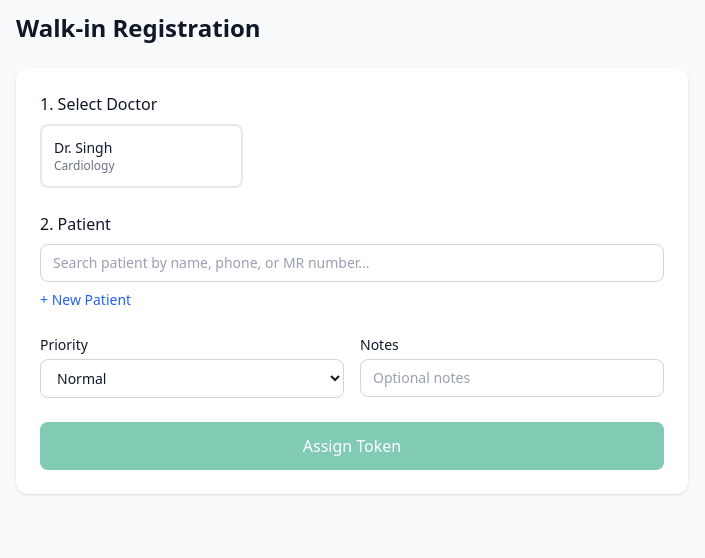
WalkInPage › happy path — uses server-provided mrNumber over the search-result fallback
Click the radio button labelled "Dr. Singh Cardiology" at (141, 156), box [40,124,243,188]
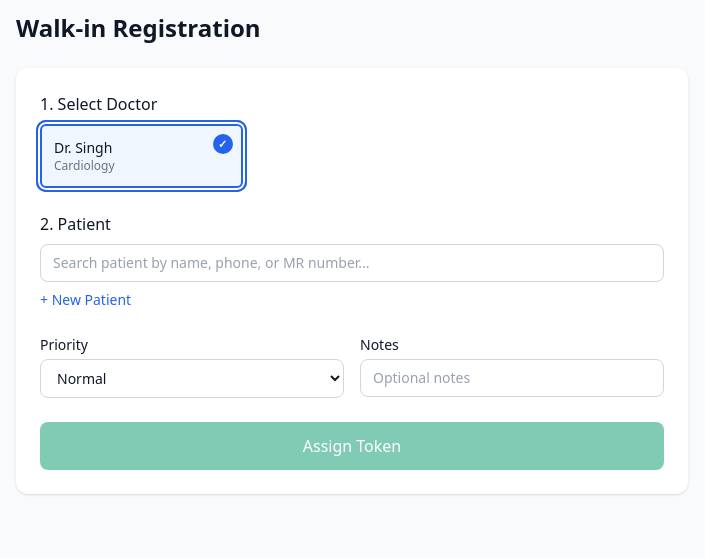
Type "Aa" into the field with placeholder "Search patient by name, phone, or MR number..." at (352, 263), box [40,244,664,282]
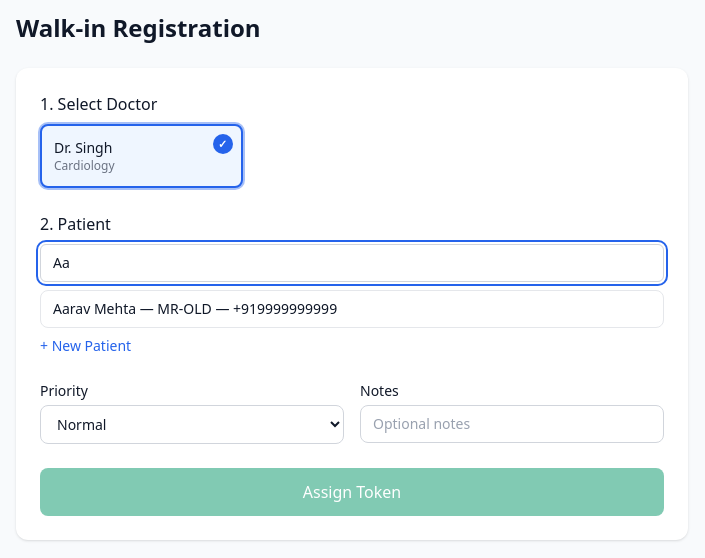
Press the mouse on the button "Aarav Mehta — MR-OLD — +919999999999" at (95, 308), box [41,291,663,327]
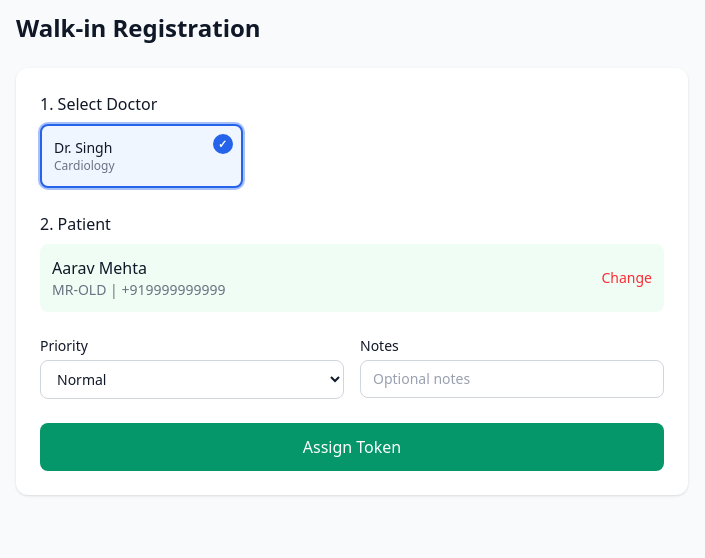
Result: the text "Aarav Mehta" is shown at [52,257,147,279]
Click the button "Assign Token" at (352, 447), box [40,423,664,471]
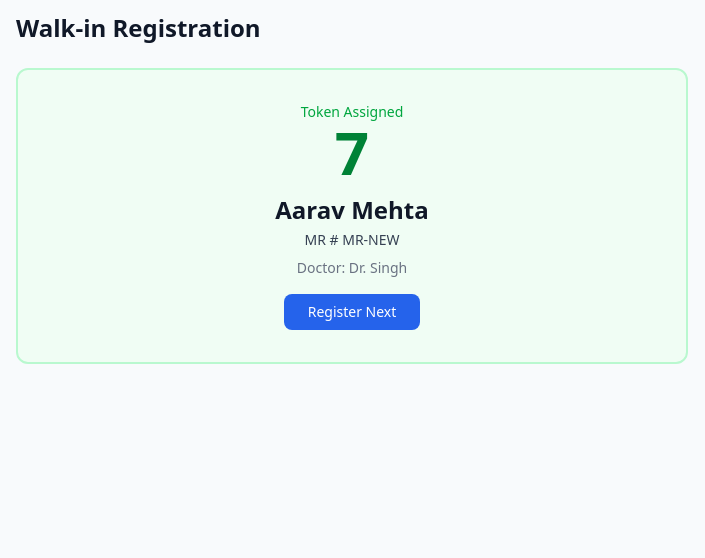
Result: the text with test id "walkin-mr-number" shows "MR-NEW" at [342,230,400,249]
